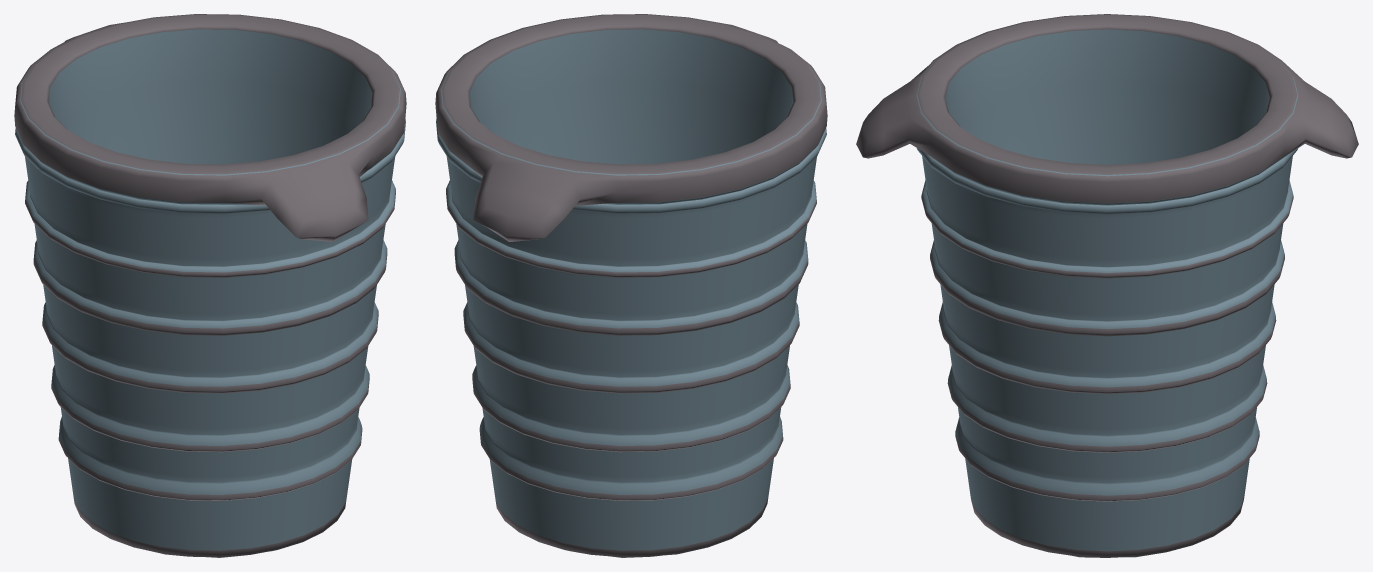
Rendered from trashcan.fbx.
3 views of the same model, side by side, from view 1: azimuth 30°, elevation 25°; view 2: azimuth 150°, elevation 25°; view 3: azimuth 270°, elevation 25° (orthographic).
Visible parts, largest first — view 1: pCylinder1; view 2: pCylinder1; view 3: pCylinder1.
Boxes of the visible parts, x1=… form: pCylinder1: x1=14, y1=14, x2=406, y2=557; pCylinder1: x1=435, y1=14, x2=827, y2=557; pCylinder1: x1=856, y1=14, x2=1358, y2=557.
Size of the model in its own units: 2.84 by 3.3 by 3.62.
